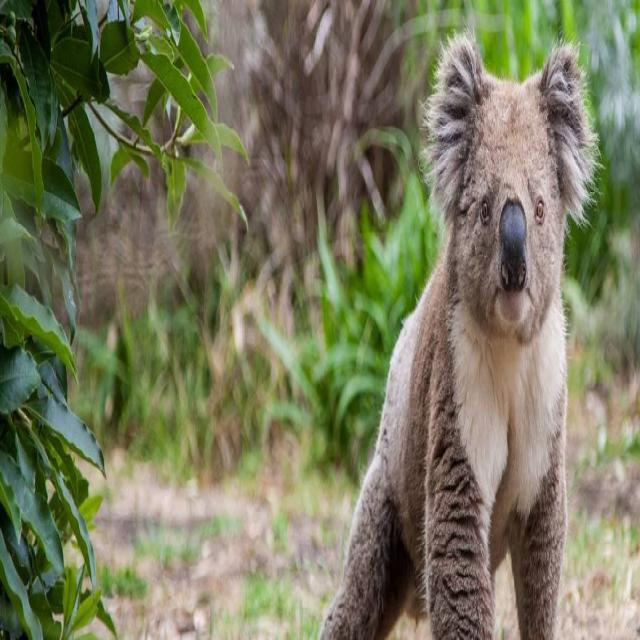Koala: (313, 28, 600, 640)
